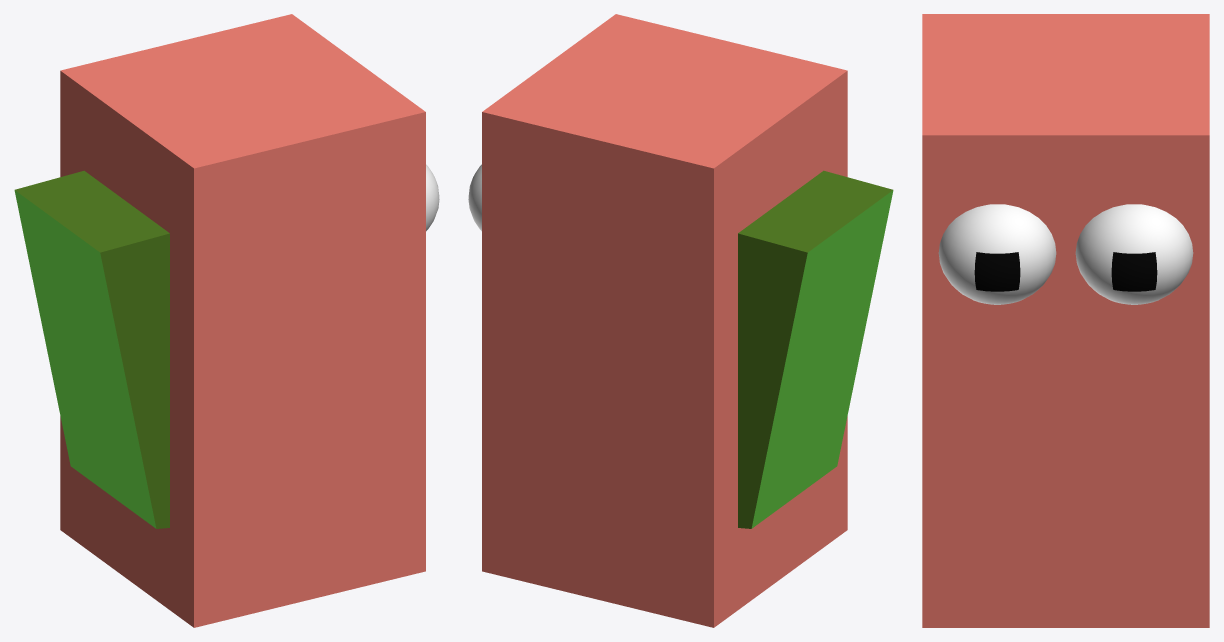
File: Player Model.fbx
3 views of the same model, side by side, from view 1: azimuth 30°, elevation 25°; view 2: azimuth 150°, elevation 25°; view 3: azimuth 270°, elevation 25° (orthographic). The views are drawn at different scales.
Visible parts, largest first — view 1: Sphere; view 2: Sphere; view 3: Sphere.
Boxes of the visible parts, left/top/right/bottom form: Sphere: left=14, top=14, right=439, bottom=627; Sphere: left=468, top=14, right=893, bottom=627; Sphere: left=922, top=14, right=1209, bottom=627.
Size of the model in its own units: 222 by 284 by 150.
